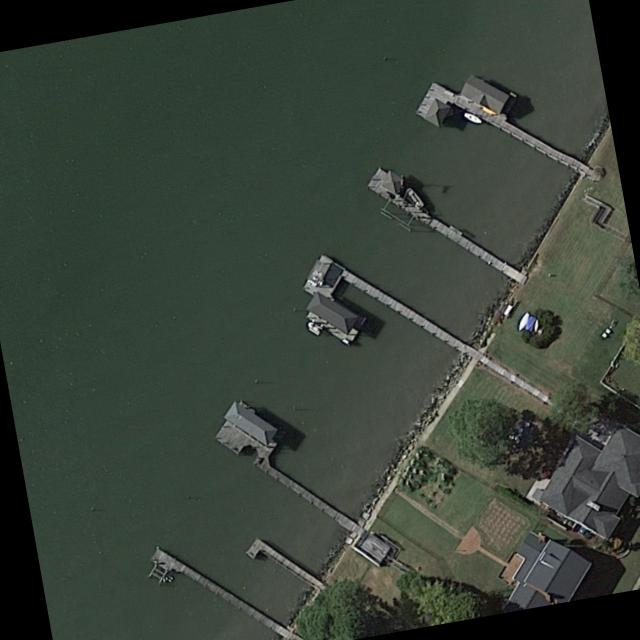ship: (403, 187, 423, 209), (514, 312, 529, 332), (461, 111, 482, 124), (304, 320, 321, 335), (523, 314, 534, 330), (532, 319, 538, 333)
small-vehicle: (506, 416, 529, 445), (570, 522, 592, 540)
